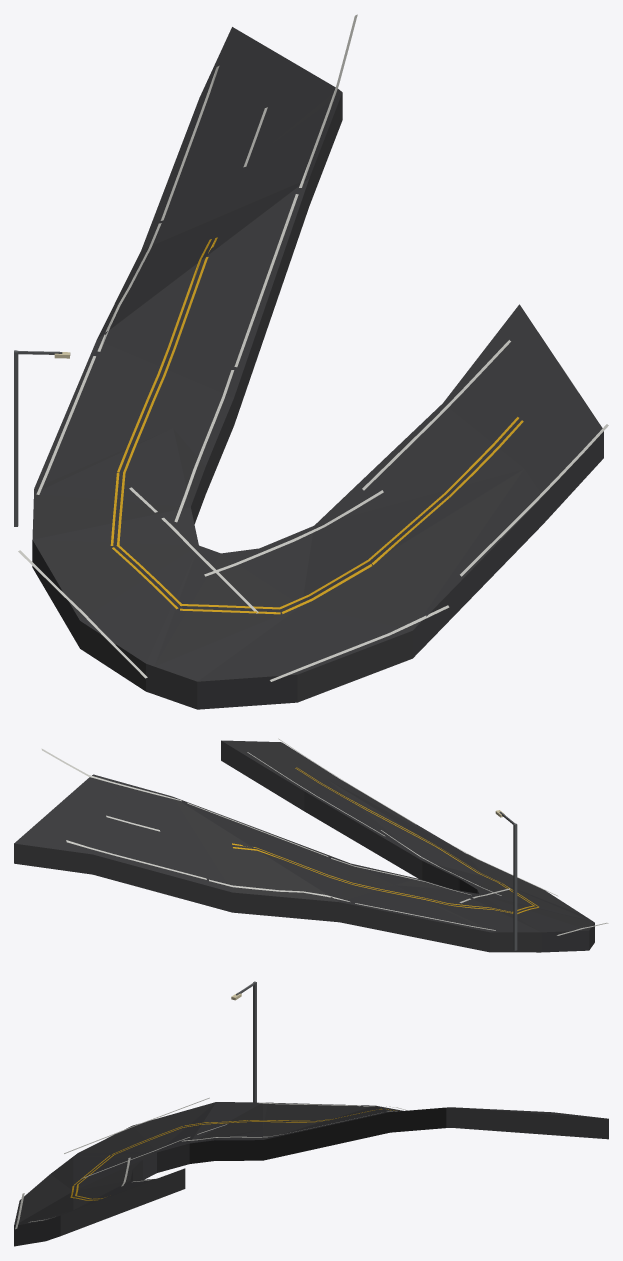
The picture shows the model from 3 angles, top to bottom: view 1: azimuth 30°, elevation 25°; view 2: azimuth 150°, elevation 25°; view 3: azimuth 270°, elevation 25°; orthographic projection. The views are drawn at different scales.
Size of the model in its own units: 23.76 by 15.73 by 31.4.
